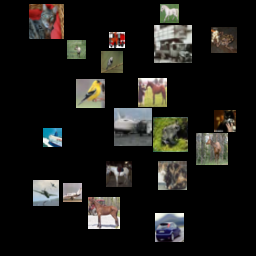airplane: (33, 180, 59, 206), (63, 183, 82, 202)
automobile: (155, 213, 184, 242)
bird: (76, 79, 105, 108), (101, 51, 123, 73)
cat: (29, 4, 64, 39), (158, 161, 187, 190), (214, 110, 236, 132)
deer: (196, 133, 228, 165), (67, 40, 86, 59)
frog: (153, 117, 188, 152), (211, 27, 237, 53)
ship: (114, 108, 152, 146), (43, 128, 62, 147)
